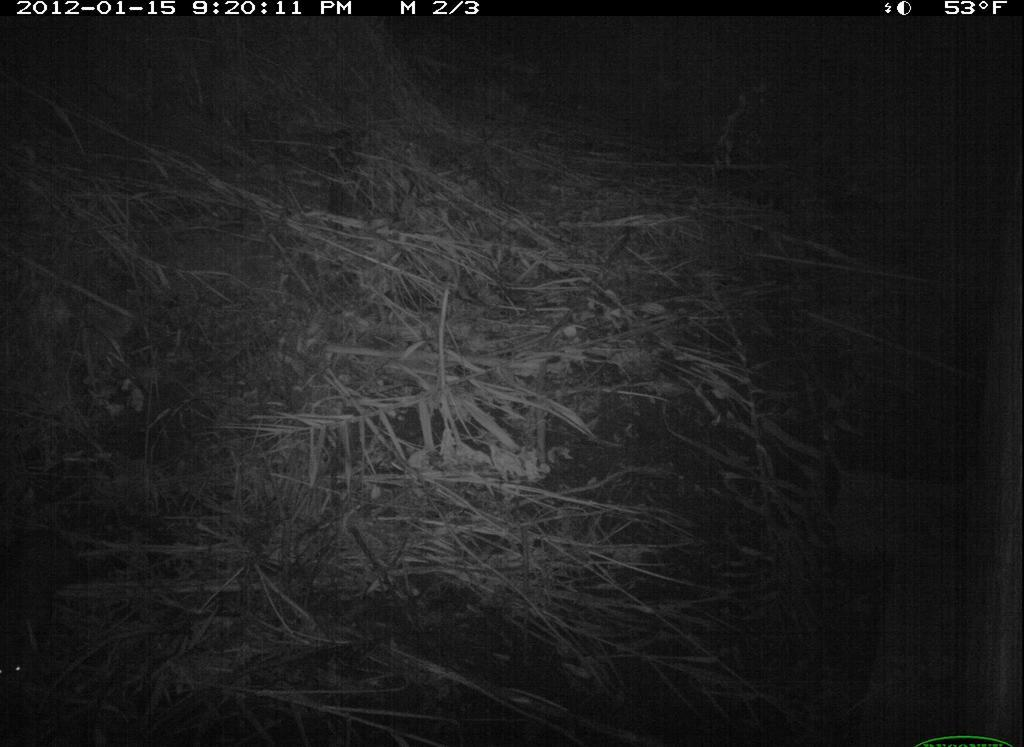opossum: (1, 505, 87, 696)
